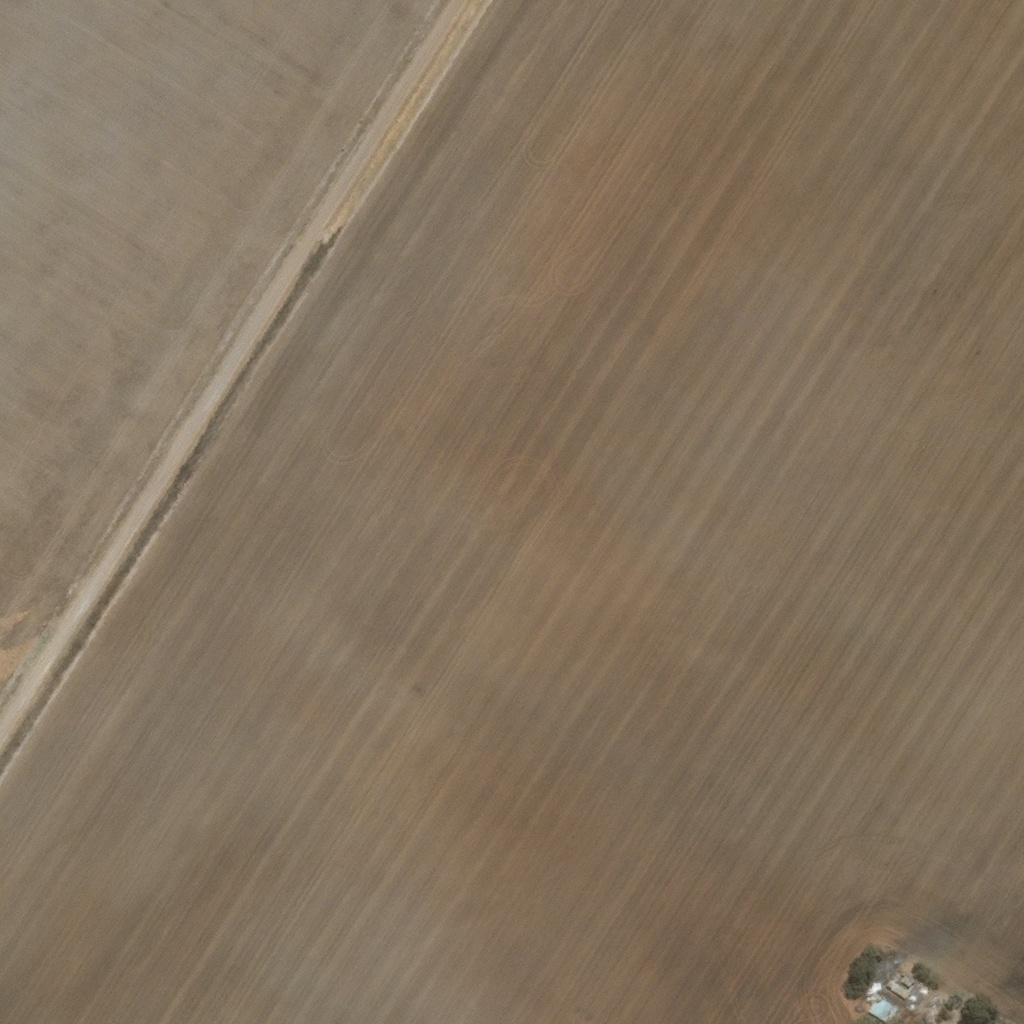0 no-damage: (865, 990, 893, 1021)
1 minor-damage: (884, 973, 915, 998)
